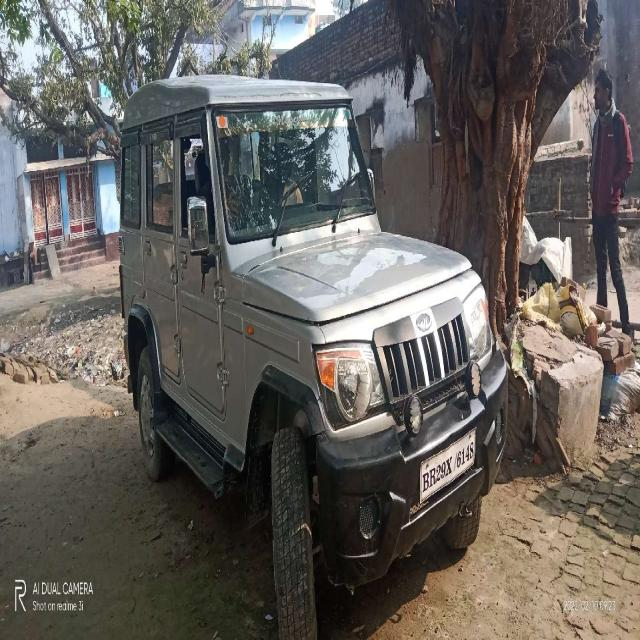light_vehicle: (129, 82, 504, 500)
